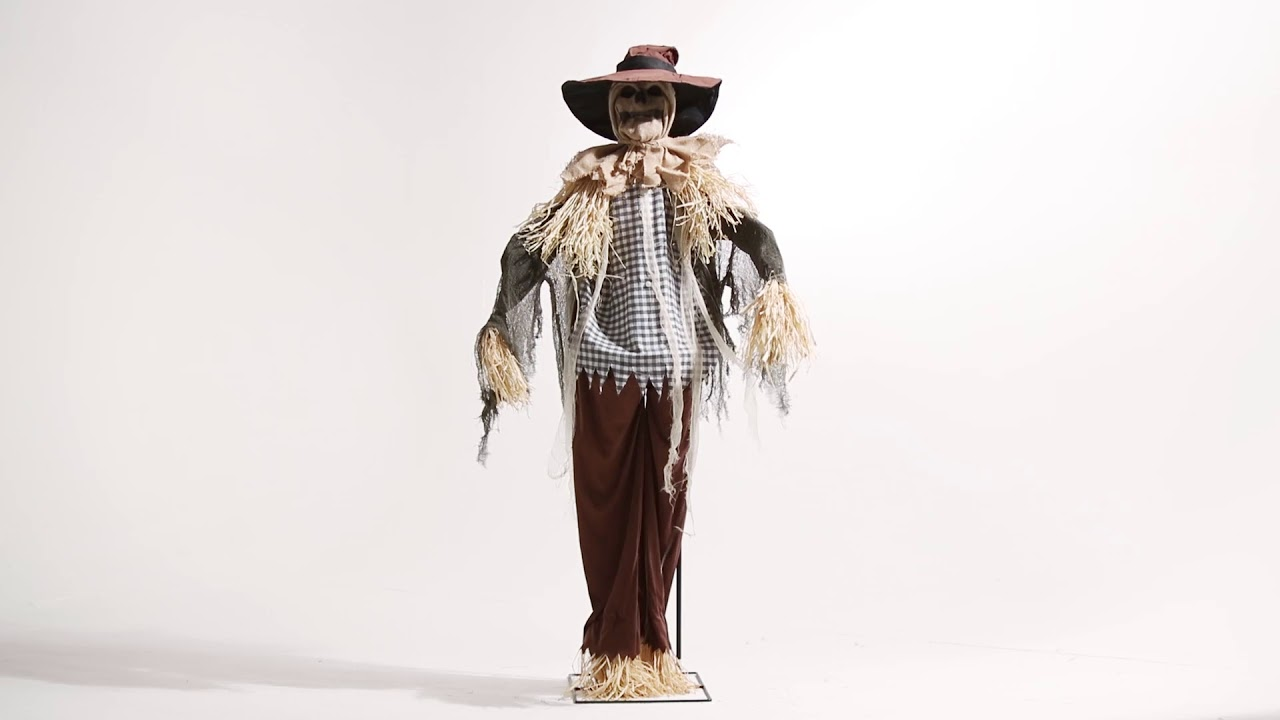person-like: (464, 33, 818, 709)
